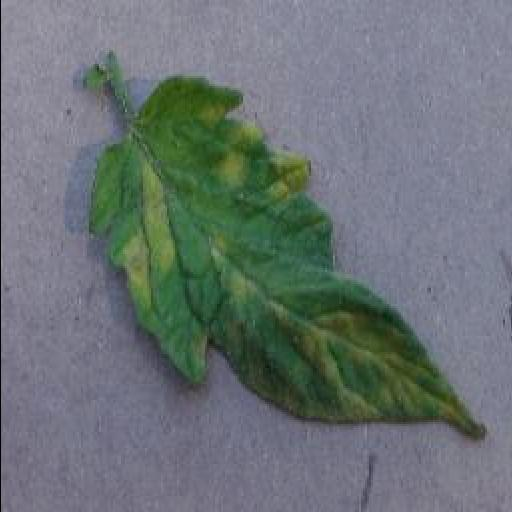disease_tomato: (90, 76, 488, 436)
